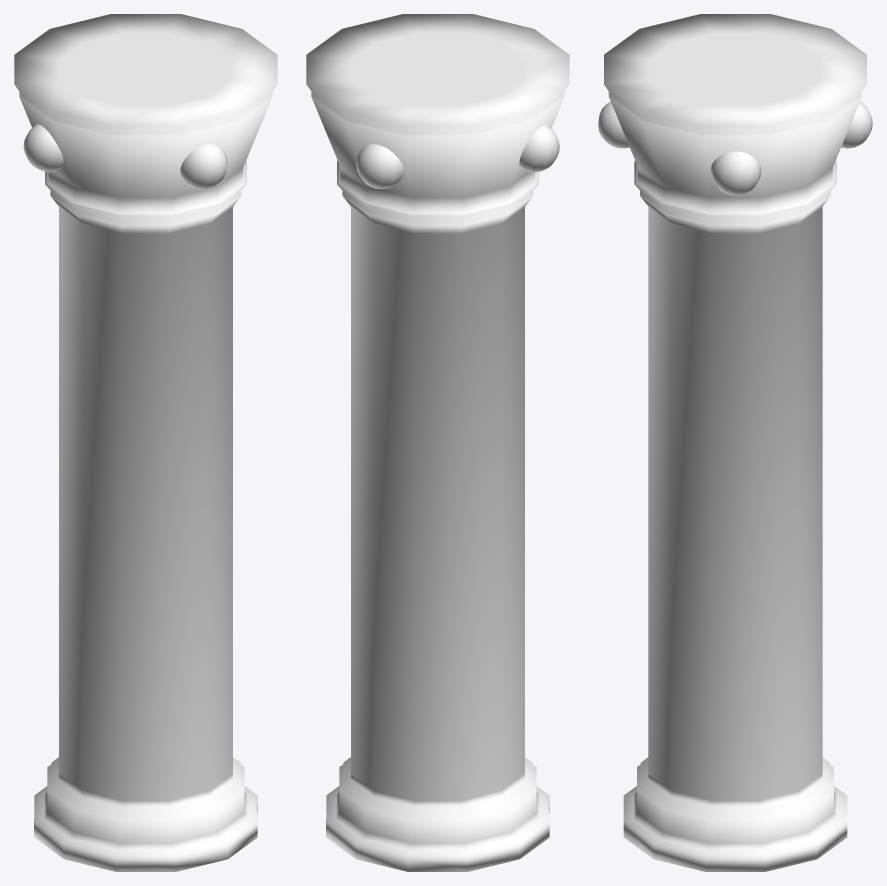
Rendered from Column_prop.fbx.
3 renders of one model, left to right at view 1: azimuth 30°, elevation 25°; view 2: azimuth 150°, elevation 25°; view 3: azimuth 270°, elevation 25°, orthographic.
Parts seen in each view (by area): view 1: polySurface8; view 2: polySurface8; view 3: polySurface8.
Boxes of the visible parts, x1,y1,x2,y2 form: polySurface8: [14, 14, 277, 871]; polySurface8: [306, 14, 569, 871]; polySurface8: [598, 14, 872, 871].
Bounding box in the file's own units: 37.93 × 115 × 37.97.
Materials: 1 (1 with a texture image).
